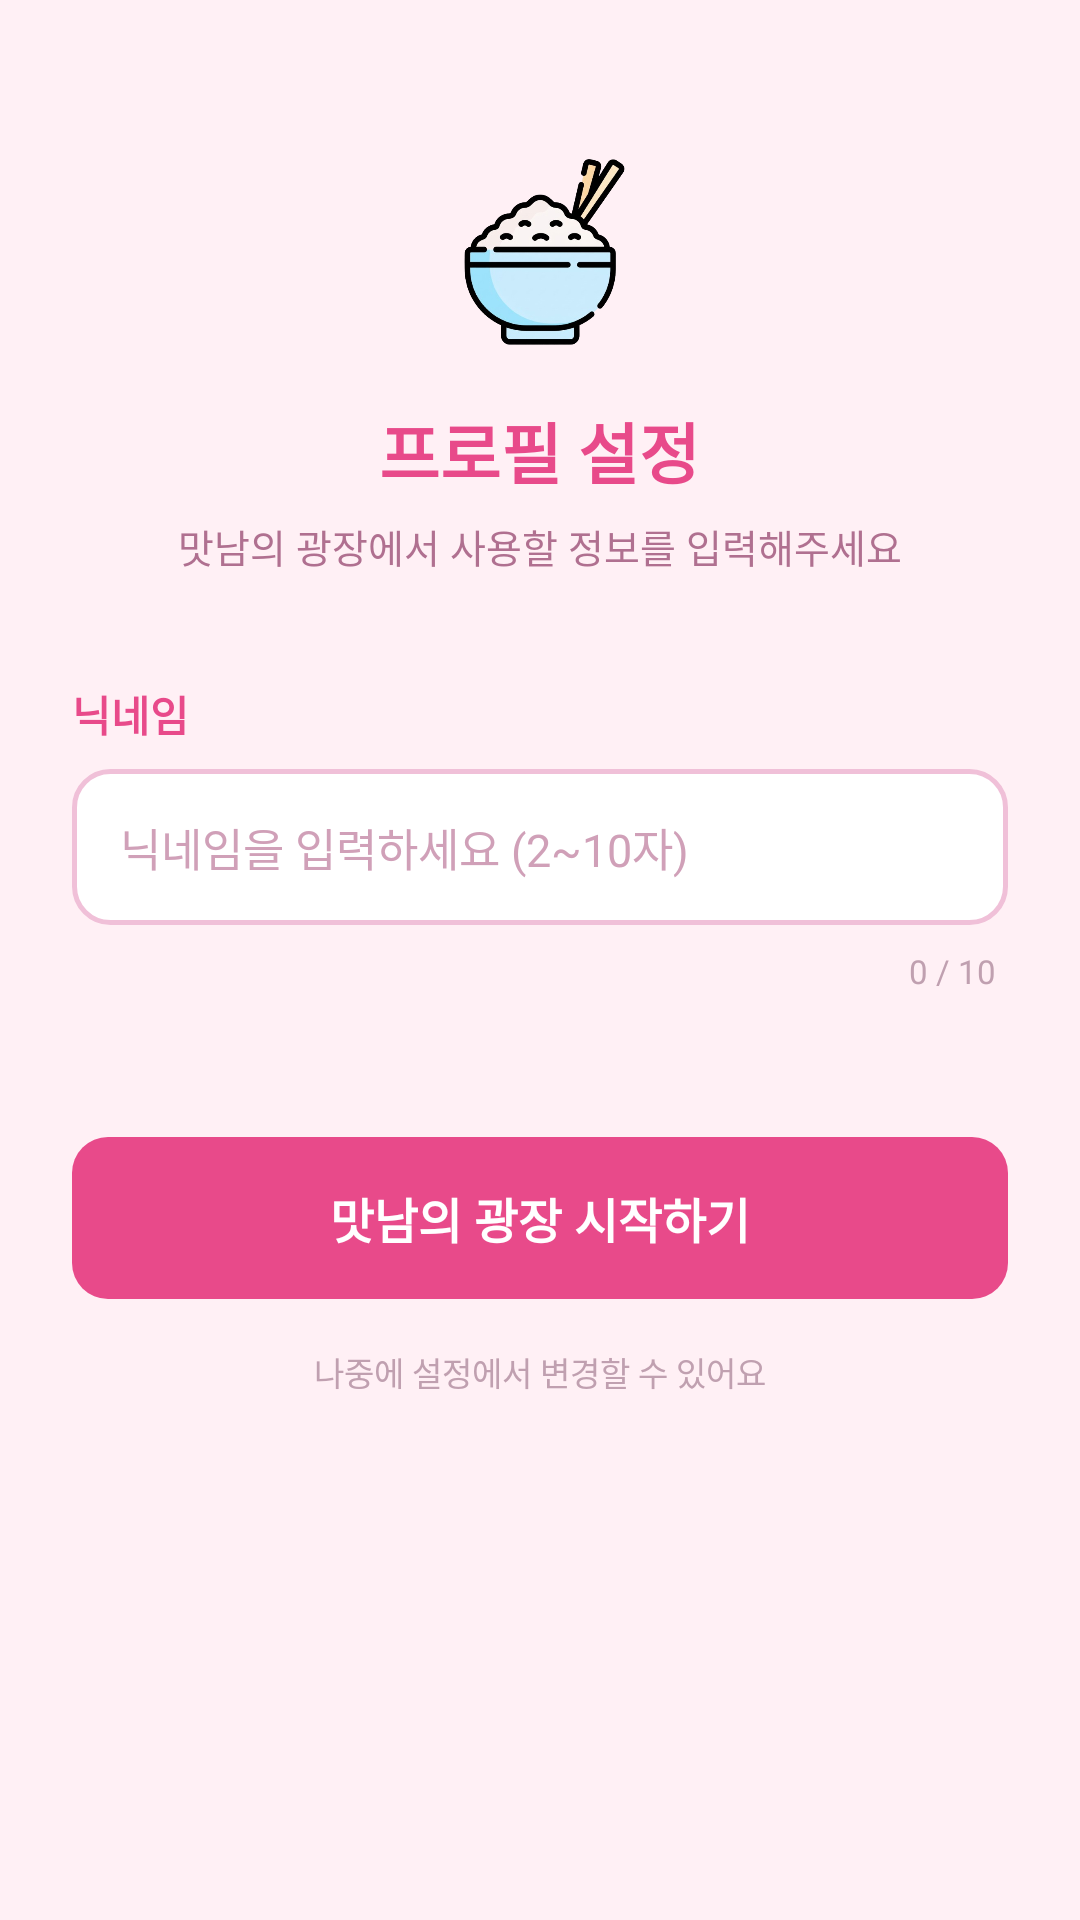

Screen size 1080×1920. Icon name, then its center in pixels as point (x, y):
앱 아이콘: point (544, 252)
